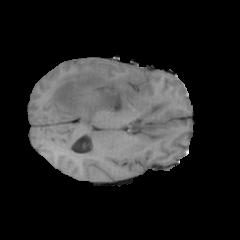glioma: (46, 67, 175, 137)
